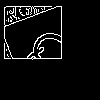Q: (25, 25, 85, 80)
